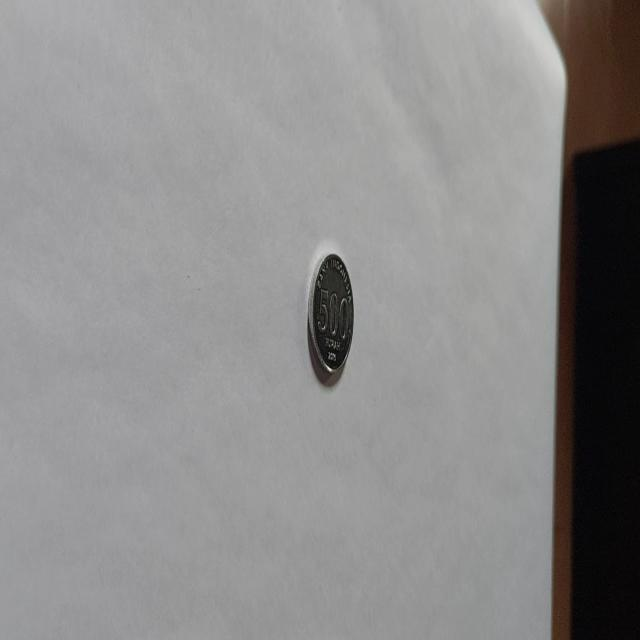lima ratus rupiah: (306, 250, 354, 386)
